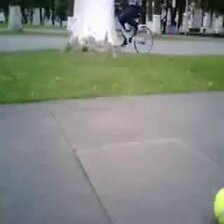tennis: (213, 187, 224, 224)
